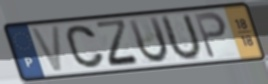C: (64, 23, 107, 70)
P: (192, 10, 229, 61)
U: (126, 15, 171, 66), (159, 12, 203, 64)
V: (28, 23, 65, 75)
Z: (93, 18, 143, 69)
